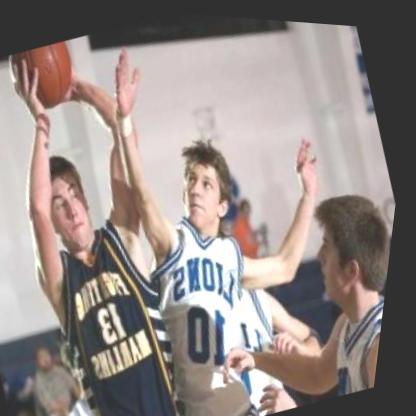basketball: (0, 34, 94, 124)
